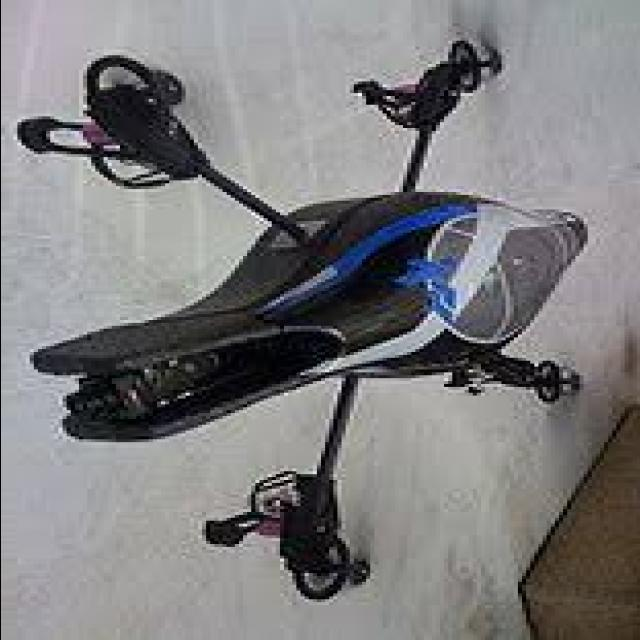drone: (0, 21, 606, 607)
